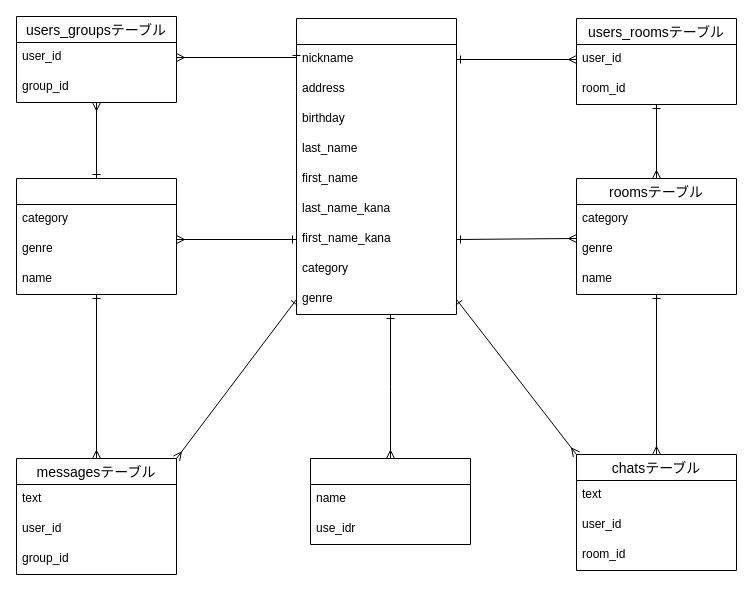
Some shapes in this 753 by 591 pixel diagram are drawn without their labels. Each missing label, with the box of its shape:
groupsテーブル: (16, 178, 176, 294)
relationshipsテーブル: (310, 458, 470, 544)
usersテーブル: (296, 18, 456, 314)
